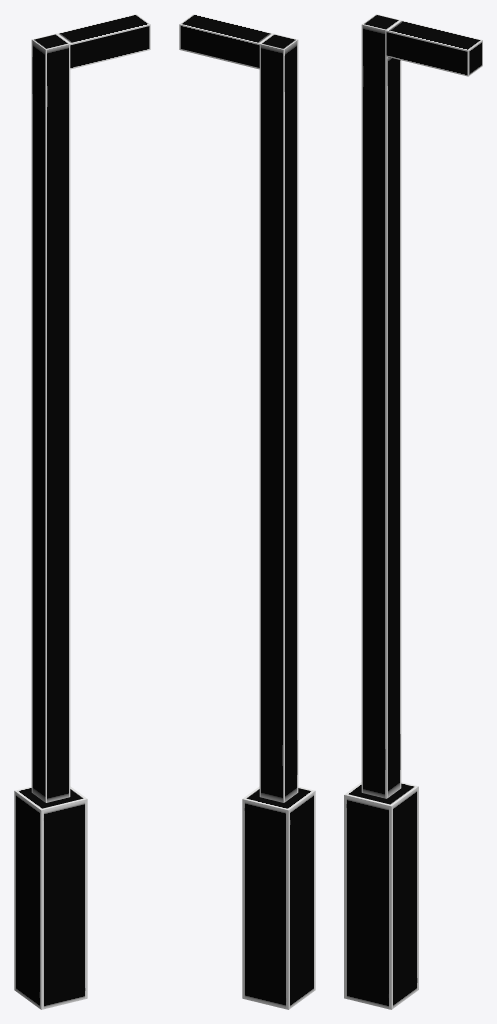
File: LampPost.fbx
3 renders of one model, left to right at view 1: azimuth 30°, elevation 25°; view 2: azimuth 150°, elevation 25°; view 3: azimuth 330°, elevation 25°, orthographic. The views are drawn at different scales.
Parts seen in each view (by area): view 1: Cube.001; view 2: Cube.001; view 3: Cube.001.
Boxes of the visible parts, x1=… form: Cube.001: x1=14, y1=14, x2=150, y2=1009; Cube.001: x1=179, y1=14, x2=315, y2=1009; Cube.001: x1=344, y1=14, x2=482, y2=1009.
Bounding box in the file's own units: 0.9091 × 7.16 × 0.3657.
